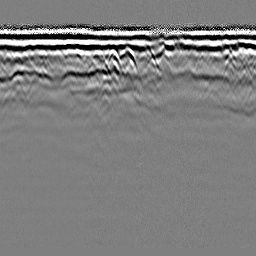cavity: (119, 44, 136, 63)
